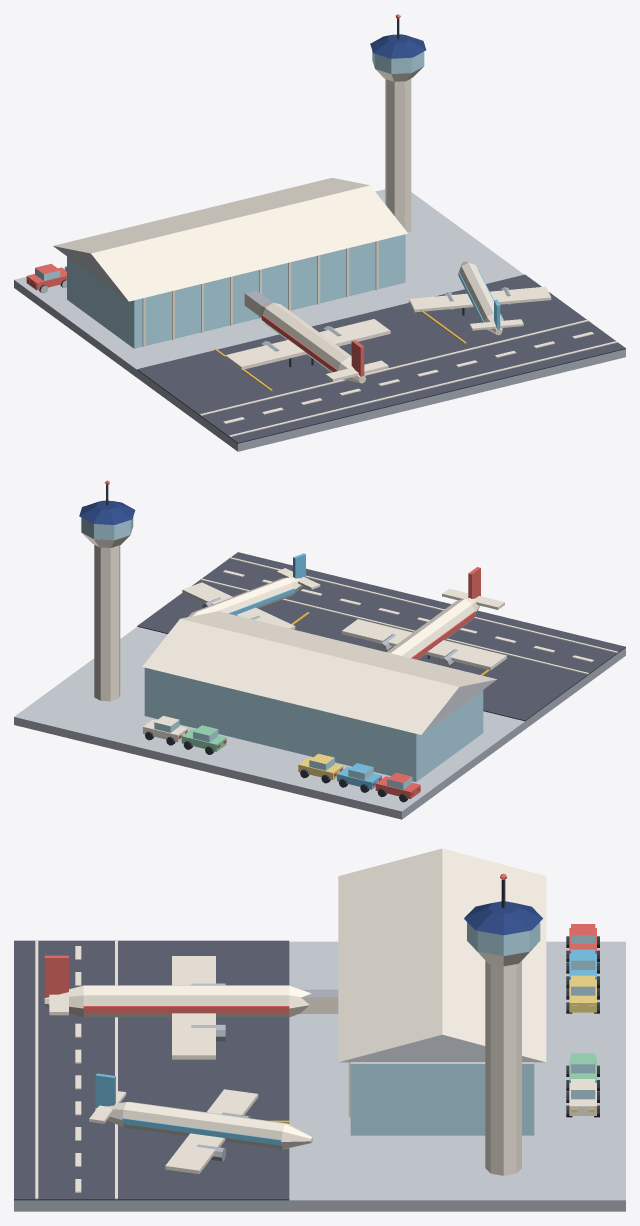
Rendered from public_airport.glb.
3 views of the same model, one above another, from view 1: azimuth 30°, elevation 25°; view 2: azimuth 150°, elevation 25°; view 3: azimuth 270°, elevation 25° (orthographic). The views are drawn at different scales.
Visible parts, largest first — view 1: public_airport; view 2: public_airport; view 3: public_airport.
Boxes of the visible parts, bbox=[...] form: public_airport: bbox=[14, 14, 625, 451]; public_airport: bbox=[14, 480, 625, 819]; public_airport: bbox=[14, 848, 625, 1211].
Bounding box in the file's own units: 2 × 1.1 × 2.
